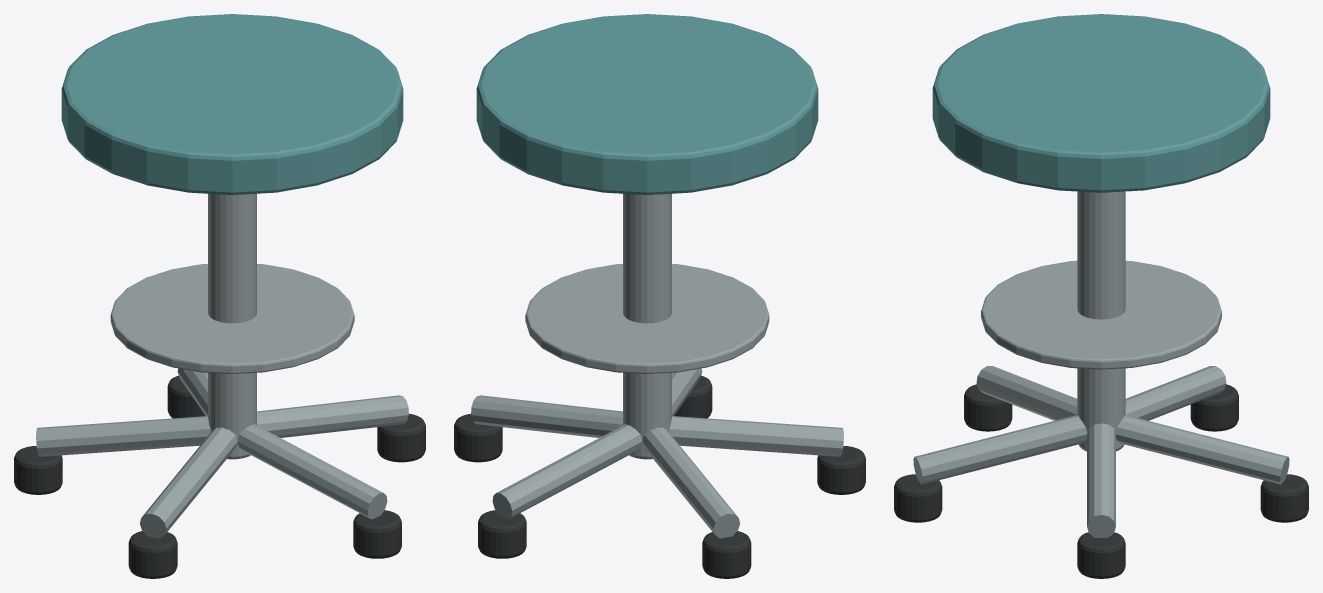
Rendered from LabStool.fbx.
3 renders of one model, left to right at view 1: azimuth 30°, elevation 25°; view 2: azimuth 150°, elevation 25°; view 3: azimuth 270°, elevation 25°, orthographic.
Parts seen in each view (by area): view 1: LabStool; view 2: LabStool; view 3: LabStool.
Boxes of the visible parts, x1,y1,x2,y2 form: LabStool: (14, 14, 425, 578); LabStool: (454, 14, 865, 578); LabStool: (894, 14, 1308, 578).
Bounding box in the file's own units: 49.42 × 55.75 × 51.65.
